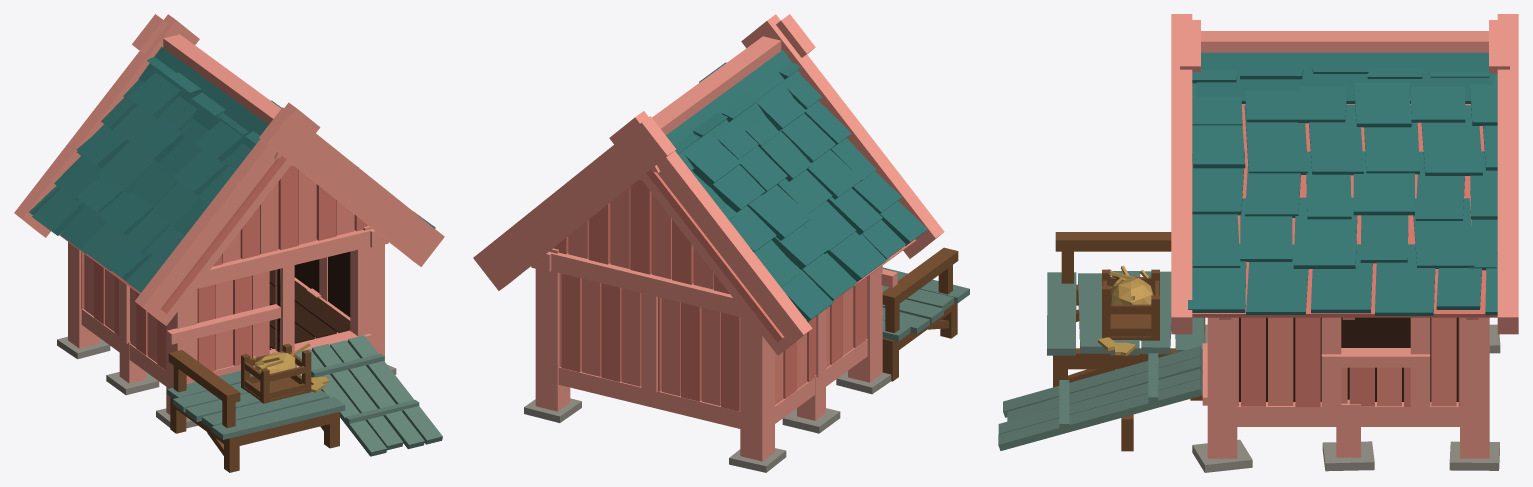
Rendered from complete.glb.
The picture shows the model from 3 angles, left to right: view 1: azimuth 30°, elevation 25°; view 2: azimuth 150°, elevation 25°; view 3: azimuth 270°, elevation 25°; orthographic projection. The views are drawn at different scales.
Visible parts, largest first — view 1: roof_shingles, roof_timbers, timber_frame, ramp, plank_walls_dark, plank_walls, platform_deck, platform_frame, stilts_sills, hay_crate, floor, trim (+4 smaller); view 2: roof_shingles, roof_timbers, plank_walls_dark, plank_walls, timber_frame, stilts_sills, platform_frame, stone_pads, platform_deck, roof_deck; view 3: roof_shingles, roof_timbers, timber_frame, ramp, stilts_sills, platform_deck, plank_walls, plank_walls_dark, platform_frame, roof_deck, stone_pads, interior (+2 smaller).
Part boxes in pixels (x1,y1,x2,y2): roof_shingles: (29,46,435,292); roof_timbers: (14,14,444,325); timber_frame: (68,164,394,377); ramp: (296,335,442,456); plank_walls_dark: (81,165,368,371); plank_walls: (84,170,354,369); platform_deck: (167,366,345,439); platform_frame: (168,350,339,472); stilts_sills: (68,277,384,418); hay_crate: (241,343,311,403); floor: (269,270,350,349); trim: (166,304,371,351); roof_shingles: (666,50,927,321); roof_timbers: (473,14,944,355); plank_walls_dark: (553,180,865,411); plank_walls: (559,187,866,405); timber_frame: (528,178,882,416); stilts_sills: (535,328,882,461); platform_frame: (882,247,958,381); stone_pads: (524,371,891,472); platform_deck: (882,267,969,341); roof_deck: (646,169,915,342); roof_shingles: (1188,52,1497,315); roof_timbers: (1171,14,1518,334); timber_frame: (1207,317,1489,408); ramp: (998,346,1202,450); stilts_sills: (1207,399,1489,458); platform_deck: (1047,271,1204,355); plank_walls: (1237,317,1456,406); plank_walls_dark: (1241,317,1459,406); platform_frame: (1053,232,1205,400); roof_deck: (1192,104,1497,317); stone_pads: (1192,324,1500,472); interior: (1239,317,1458,401).
Size of the model in its own units: 3.58 by 3.43 by 4.21.
